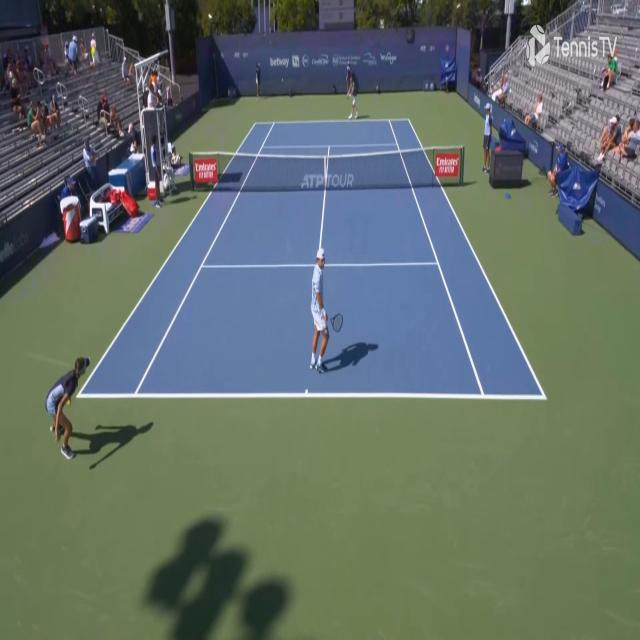tennis-player: (308, 244, 344, 376), (345, 69, 358, 122)
